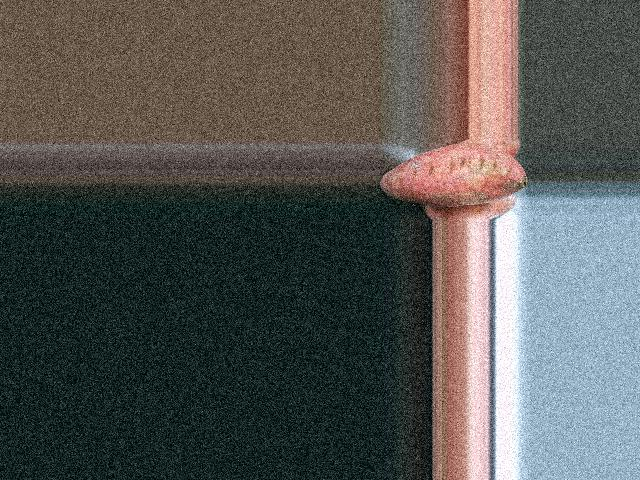sweet_potato: (381, 148, 527, 200)
